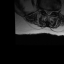CCS_normal: (47, 8, 49, 17)
LFS_stenosis: (52, 9, 54, 14)
LLS_stenosis: (49, 9, 52, 15)
RFS_severe_stenosis: (42, 7, 45, 13)
RLS_normal: (45, 8, 47, 14)
